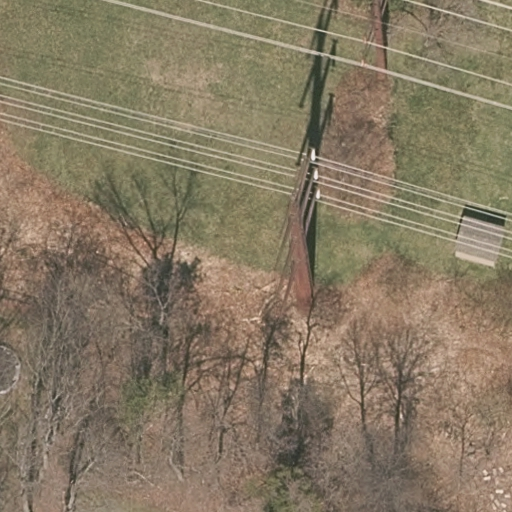TT: (277, 145, 326, 319)
